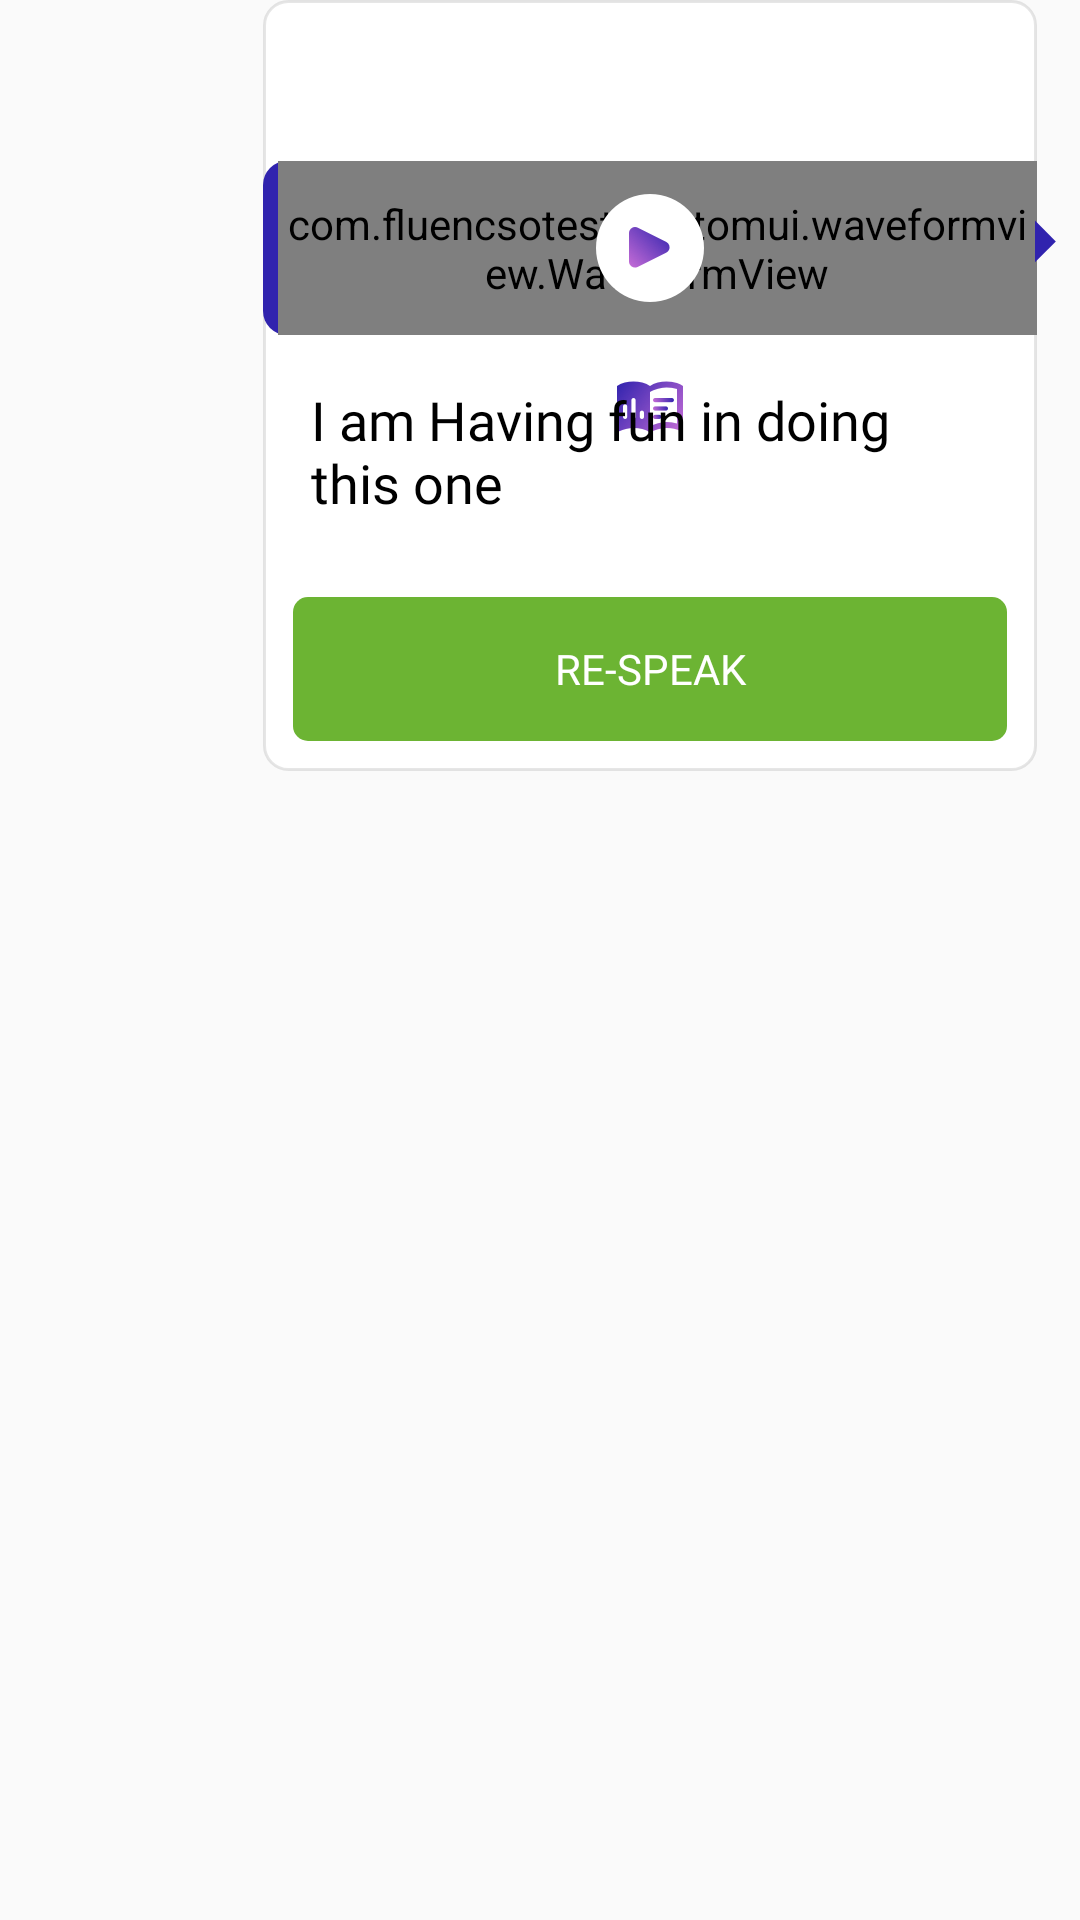

Locate icon controls on the screen. Image size 1080px×1920px, boxes as (x1, y1, x2, y2).
playback: (596, 194, 704, 302)
